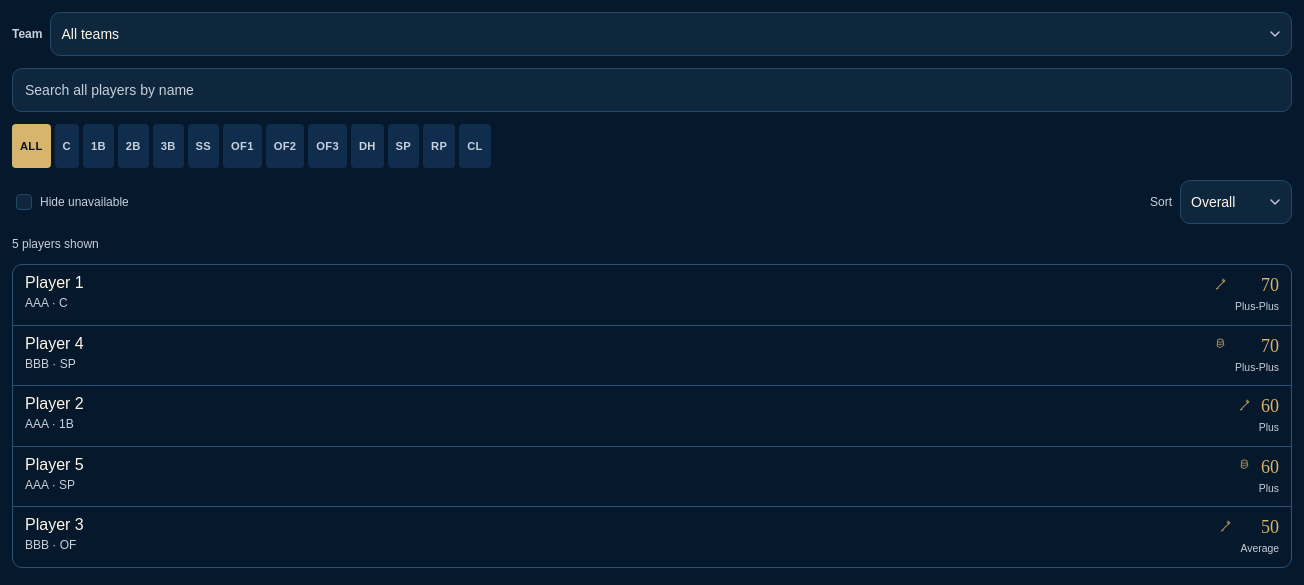
it: DailyPlayerBrowser › shows a no-match message when filters exclude everyone
This screenshot has width=1304, height=585.
Step 1. Click the button "2B" → x=133, y=146, box [118,124,149,168]
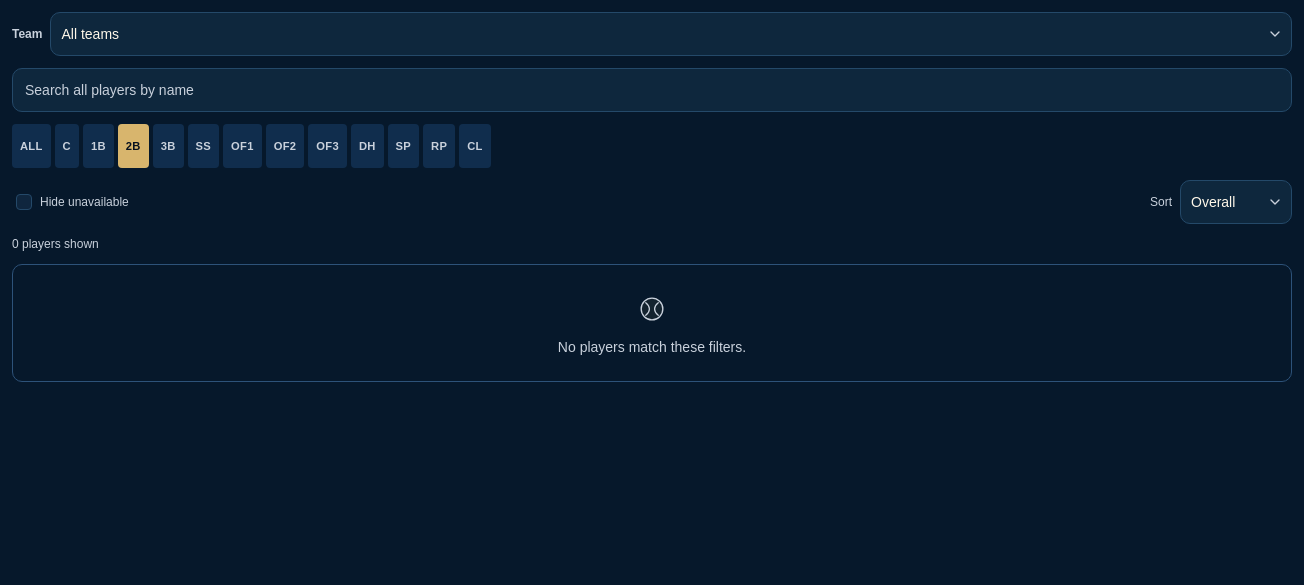
Expected: the text "No players match these filters." is shown, [558,337,746,357]
